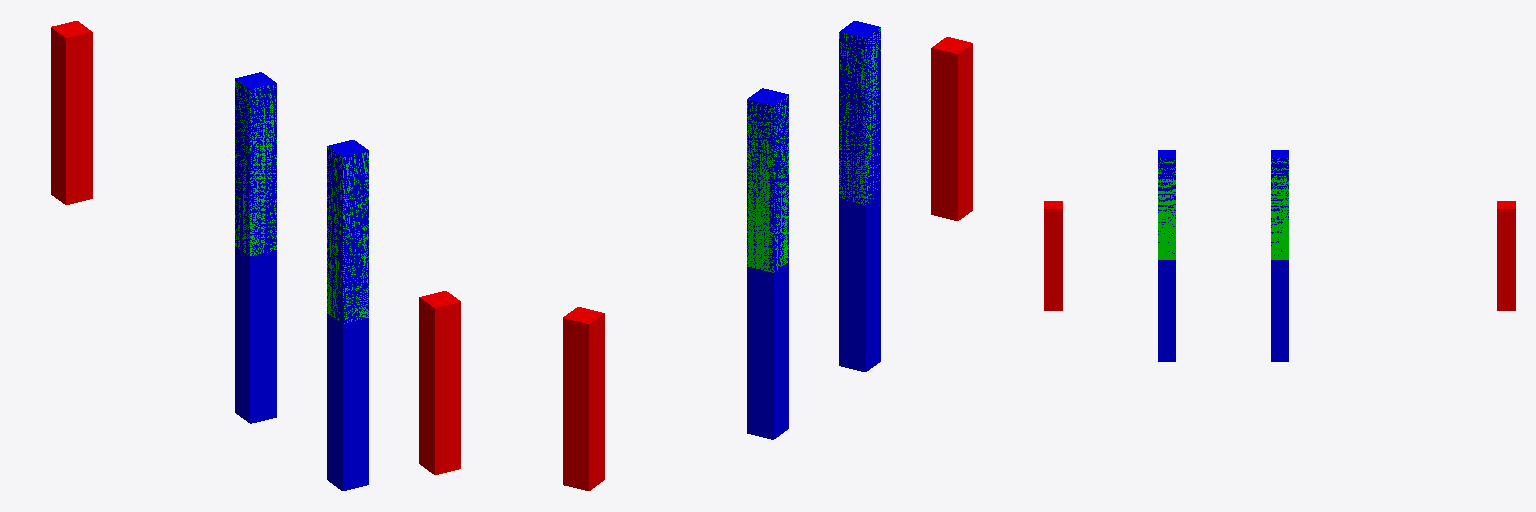
The robot description file, URDF, robot "custom_structure":
<?xml version="1.0"?>
<robot name="custom_structure">
  <!-- 定义材料属性，让不同部件有颜色区分 -->
  <material name="blue">
    <color rgba="0 0 1 1"/>
  </material>
  <material name="red">
    <color rgba="1 0 0 1"/>
  </material>
  <material name="green">
    <color rgba="0 1 0 1"/>
  </material>

  <!-- ================= 1. 定义所有 link（长方体部件） ================= -->

  <!-- 底部水平长方体1 (左) -->
  <link name="horizontal_1">
    <visual>
      <geometry>
        <box size="0.025 0.025 0.3"/>
      </geometry>
      <material name="blue"/>
    </visual>
    <collision>
      <geometry>
        <box size="0.025 0.025 0.3"/>
      </geometry>
    </collision>
  </link>

  <!-- 底部水平长方体2 (右) -->
  <!-- 注意：它的位置将在 joint 中定义 -->
  <link name="horizontal_2">
    <visual>
      <geometry>
        <box size="0.025 0.025 0.3"/>
      </geometry>
      <material name="blue"/>
    </visual>
    <collision>
      <geometry>
        <box size="0.025 0.025 0.3"/>
      </geometry>
    </collision>
  </link>

  <!-- 垂直连接长方体 (连接水平1和水平2) -->
  <!-- 一共有 (0.3 / 0.05) + 1 = 7 个 -->
  <!-- 这里仅示例第一个、中间一个和最后一个，其余类似 -->
  <link name="vertical_connector_1">
    <visual>
      <geometry>
        <box size="0.025 0.025 0.15"/>
      </geometry>
      <material name="red"/>
    </visual>
    <collision>
      <geometry>
        <box size="0.025 0.025 0.15"/>
      </geometry>
    </collision>
  </link>
  
  <!-- ... 此处省略 vertical_connector_2 到 vertical_connector_6 ... -->

  <link name="vertical_connector_7">
    <visual>
      <geometry>
        <box size="0.025 0.025 0.15"/>
      </geometry>
      <material name="red"/>
    </visual>
    <collision>
      <geometry>
        <box size="0.025 0.025 0.15"/>
      </geometry>
    </collision>
  </link>

  <!-- 竖直插入长方体 (插入到水平1上) -->
  <link name="vertical_insert_1">
    <visual>
      <geometry>
        <box size="0.025 0.025 0.15"/>
      </geometry>
      <material name="green"/>
    </visual>
    <collision>
      <geometry>
        <box size="0.025 0.025 0.15"/>
      </geometry>
    </collision>
  </link>

  <!-- 竖直插入长方体 (插入到水平2上) -->
  <link name="vertical_insert_2">
    <visual>
      <geometry>
        <box size="0.025 0.025 0.15"/>
      </geometry>
      <material name="green"/>
    </visual>
    <collision>
      <geometry>
        <box size="0.025 0.025 0.15"/>
      </geometry>
    </collision>
  </link>

  <!-- ================= 2. 定义所有 joint（固定连接） ================= -->

  <!-- 将水平2固定在水平1上，间距0.15 -->
  <!-- 假设水平1的中心在原点，沿Y轴方向放置，则水平2的中心在Y方向偏移0.15 -->
  <joint name="joint_horizontal_2" type="fixed">
    <parent link="horizontal_1"/>
    <child link="horizontal_2"/>
    <origin xyz="0 0.15 0" rpy="0 0 0"/>
  </joint>

  <!-- 垂直连接件1：固定在水平1上，位于连接处 -->
  <!-- 假设连接件在水平1的末端，即Y方向偏移 -0.15 -->
  <joint name="joint_connector_1" type="fixed">
    <parent link="horizontal_1"/>
    <child link="vertical_connector_1"/>
    <origin xyz="0 -0.15 0" rpy="0 0 0"/>
  </joint>

  <!-- 垂直连接件7：固定在水平2上 -->
  <joint name="joint_connector_7" type="fixed">
    <parent link="horizontal_2"/>
    <child link="vertical_connector_7"/>
    <!-- 水平2的中心在Y=0.15处，其末端在 Y=0.15 + 0.15 = 0.30 -->
    <origin xyz="0 0.30 0" rpy="0 0 0"/>
  </joint>

  <!-- 竖直插入件1：固定在水平1上，假设插入在中心位置 -->
  <joint name="joint_insert_1" type="fixed">
    <parent link="horizontal_1"/>
    <child link="vertical_insert_1"/>
    <origin xyz="0 0 0.075" rpy="0 0 0"/> <!-- Z方向向上偏移半个高度 -->
  </joint>

  <!-- 竖直插入件2：固定在水平2上 -->
  <joint name="joint_insert_2" type="fixed">
    <parent link="horizontal_2"/>
    <child link="vertical_insert_2"/>
    <origin xyz="0 0 0.075" rpy="0 0 0"/>
  </joint>

</robot>

--- Facts derived from the render (not from the file) ---
3 views of the same robot in one strip: view 1: azimuth 30°, elevation 25°; view 2: azimuth 150°, elevation 25°; view 3: azimuth 270°, elevation 25° (orthographic).
Robot: custom_structure — 6 links, 5 joints (5 fixed); root link horizontal_1; default pose: every joint at zero.
Visible links, largest first — view 1: horizontal_1, horizontal_2, vertical_connector_7, vertical_connector_1, vertical_insert_2, vertical_insert_1; view 2: horizontal_1, horizontal_2, vertical_connector_7, vertical_connector_1, vertical_insert_2, vertical_insert_1; view 3: horizontal_1, horizontal_2, vertical_connector_1, vertical_connector_7, vertical_insert_2, vertical_insert_1.
Boxes of the visible links, x1,y1,x2,y2 form: horizontal_1: (327,140,368,490); horizontal_2: (235,72,276,423); vertical_connector_7: (51,21,92,204); vertical_connector_1: (419,291,460,474); vertical_insert_2: (235,81,276,255); vertical_insert_1: (327,147,368,323); horizontal_1: (839,21,880,371); horizontal_2: (747,88,788,439); vertical_connector_7: (563,307,604,490); vertical_connector_1: (931,37,972,220); vertical_insert_2: (747,96,788,272); vertical_insert_1: (839,28,880,204); horizontal_1: (1158,150,1175,361); horizontal_2: (1271,150,1288,361); vertical_connector_1: (1044,201,1062,310); vertical_connector_7: (1497,201,1515,310); vertical_insert_2: (1271,158,1288,259); vertical_insert_1: (1158,158,1175,259).
Size in the robot's own frame: 0.025 by 0.625 by 0.3 metres.
Geometry: primitives only (box / cylinder / sphere), no mesh files.
